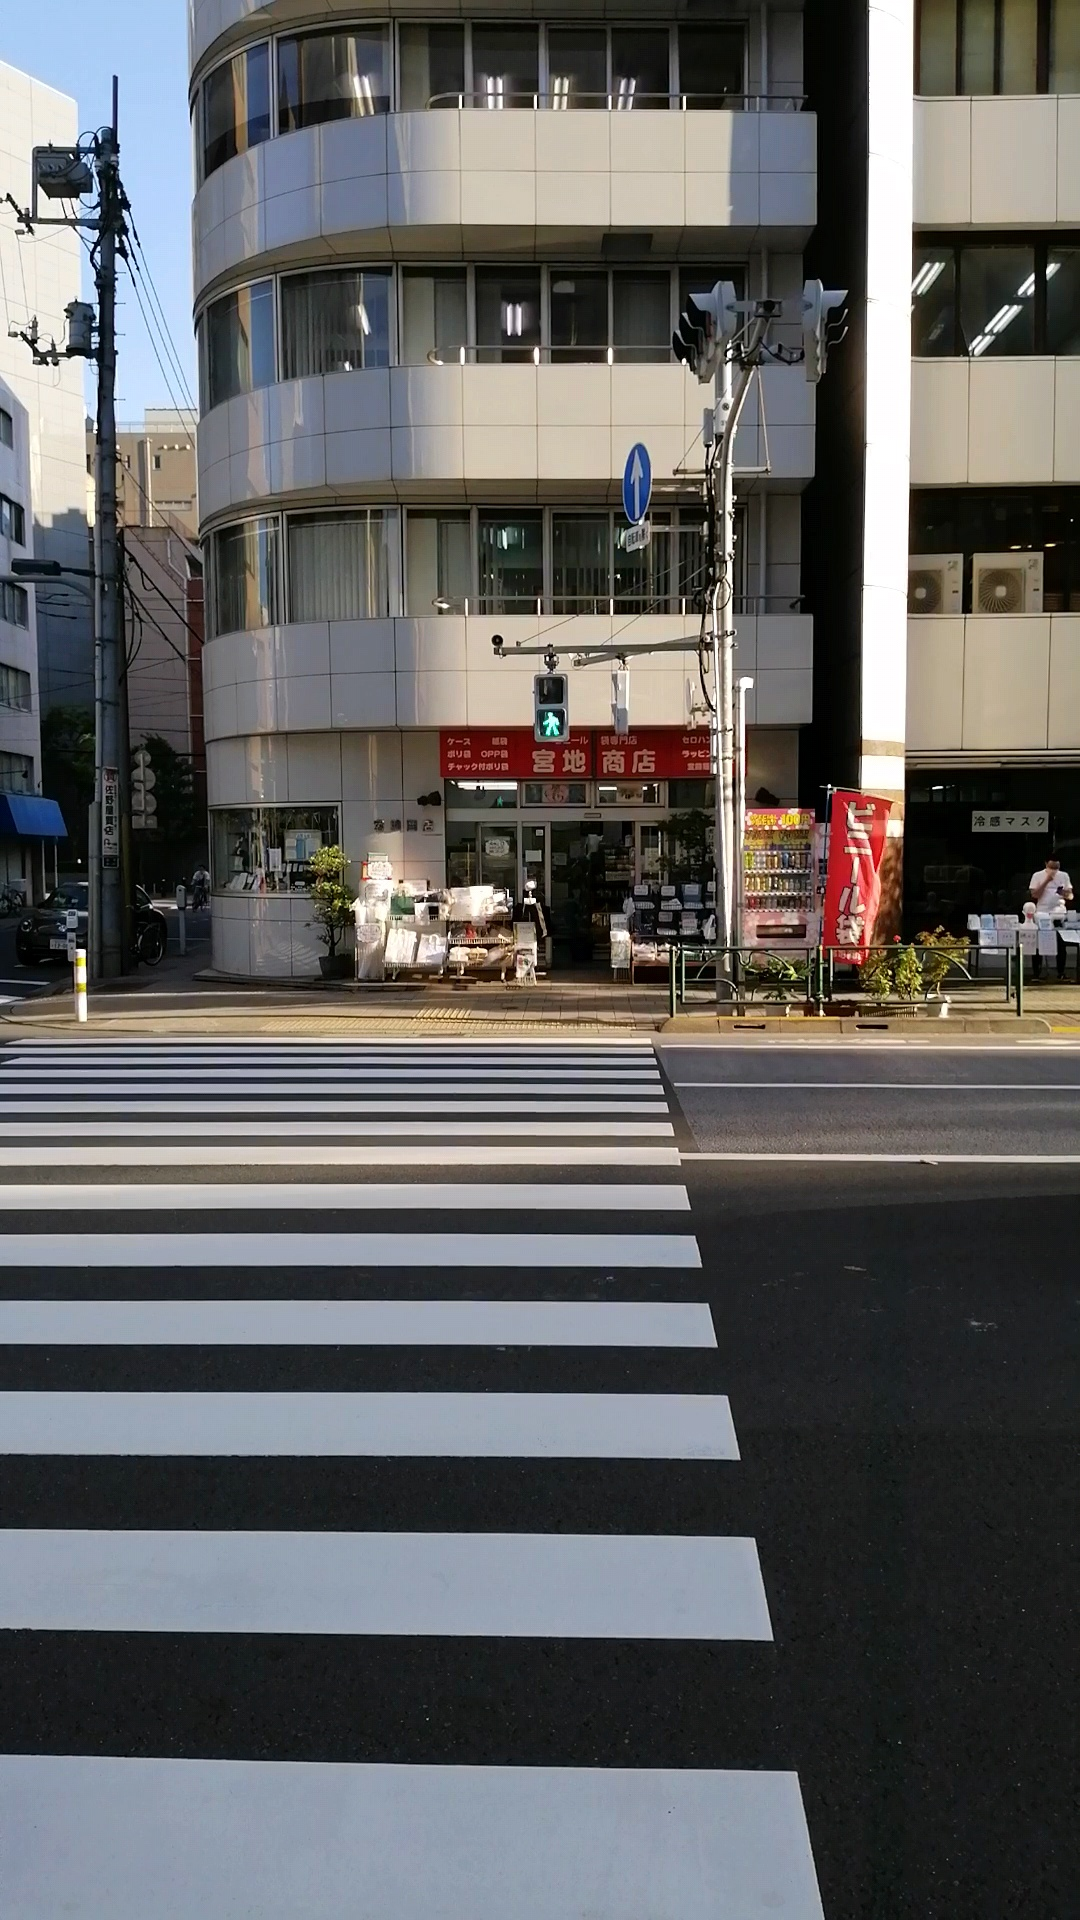green: (527, 673, 568, 746)
